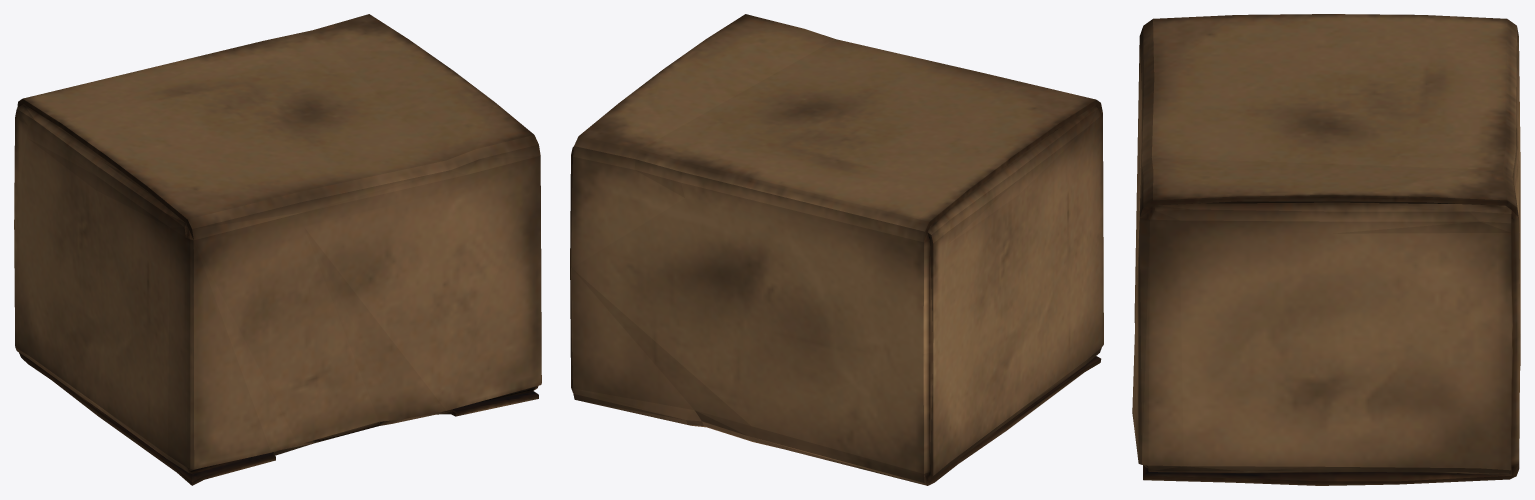
The picture shows the model from 3 angles, left to right: view 1: azimuth 30°, elevation 25°; view 2: azimuth 150°, elevation 25°; view 3: azimuth 270°, elevation 25°; orthographic projection. The views are drawn at different scales.
Parts seen in each view (by area): view 1: TW_6570255dbfc87b3a3409324a_PZ_Import; view 2: TW_6570255dbfc87b3a3409324a_PZ_Import; view 3: TW_6570255dbfc87b3a3409324a_PZ_Import.
Boxes of the visible parts, bbox=[...] form: TW_6570255dbfc87b3a3409324a_PZ_Import: bbox=[14, 14, 541, 485]; TW_6570255dbfc87b3a3409324a_PZ_Import: bbox=[570, 14, 1103, 485]; TW_6570255dbfc87b3a3409324a_PZ_Import: bbox=[1132, 14, 1520, 485].
Bounding box in the file's own units: 0.0411 × 0.0356 × 0.0294.
Materials: 1 (1 with a texture image).
